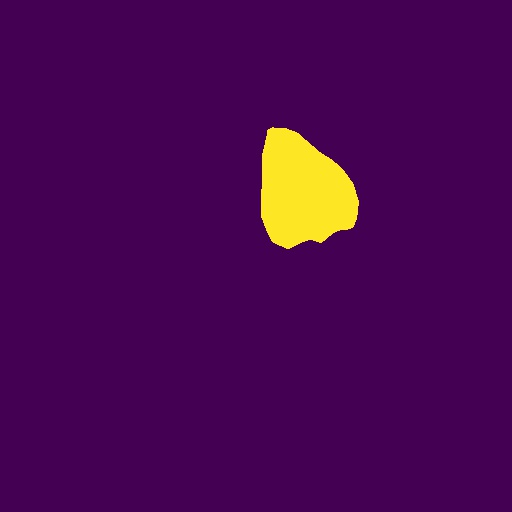Gliomia_tumour: (261, 127, 359, 249)
